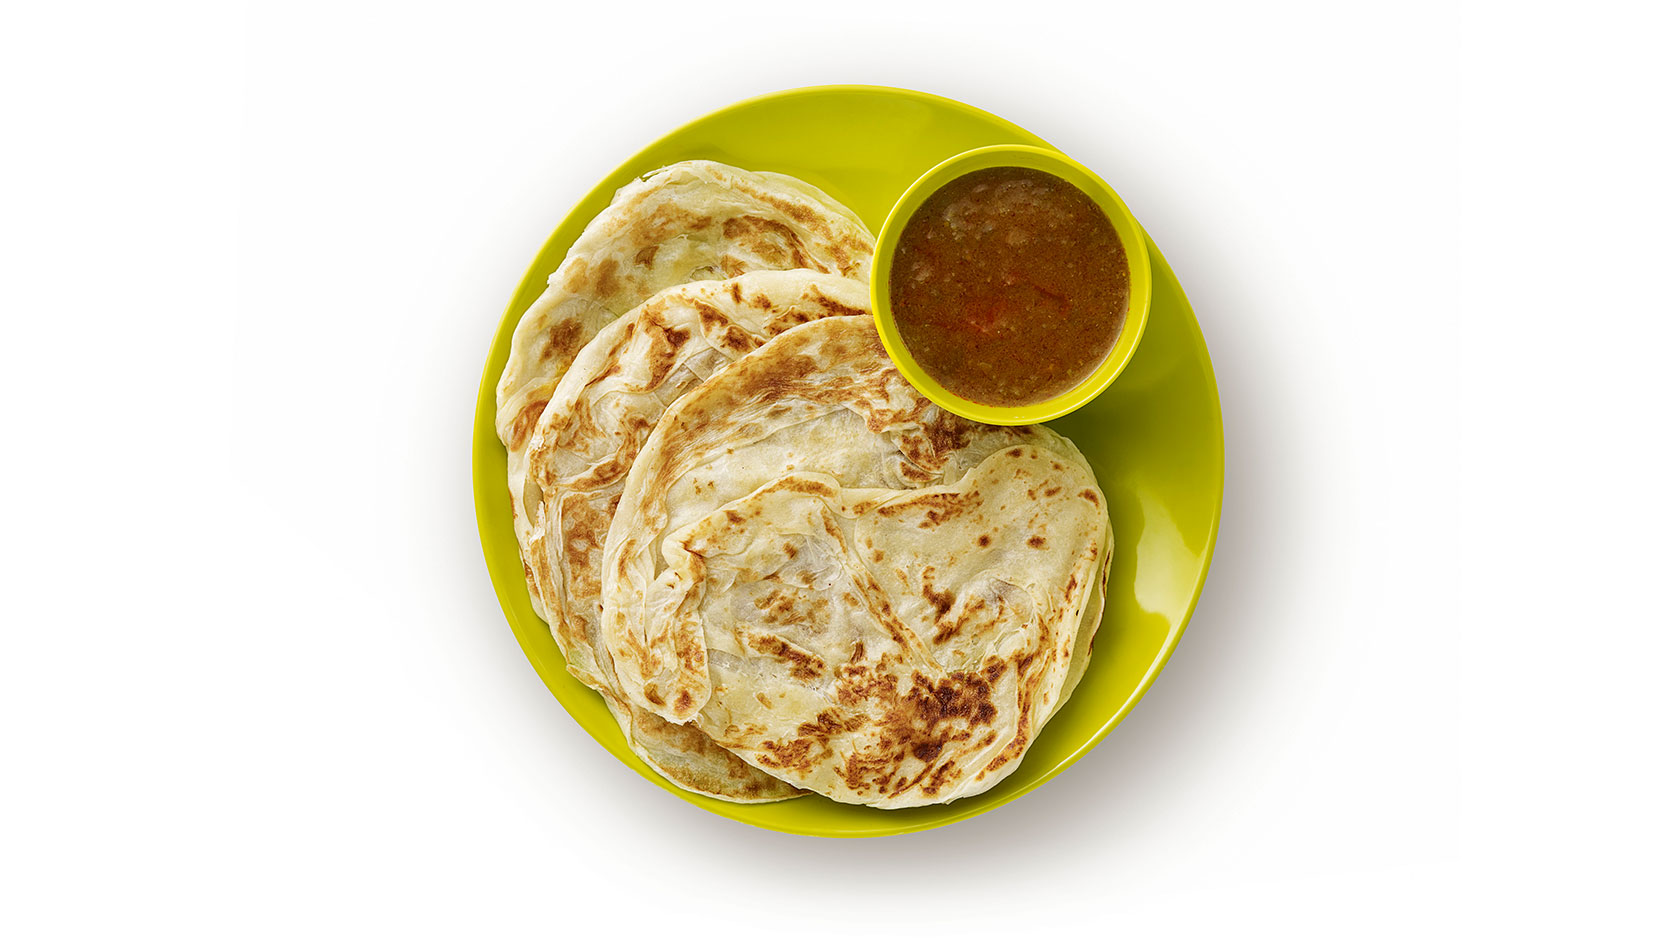Prata: (630, 305, 1119, 812), (514, 282, 944, 820)
